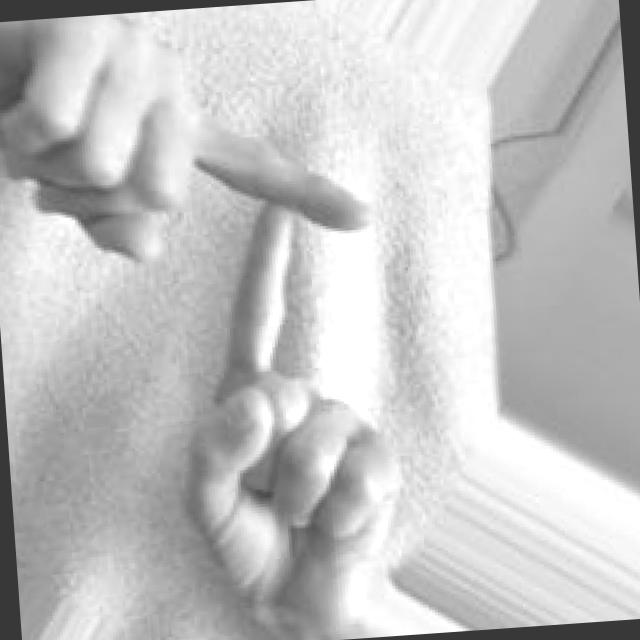T: (0, 0, 419, 640)
